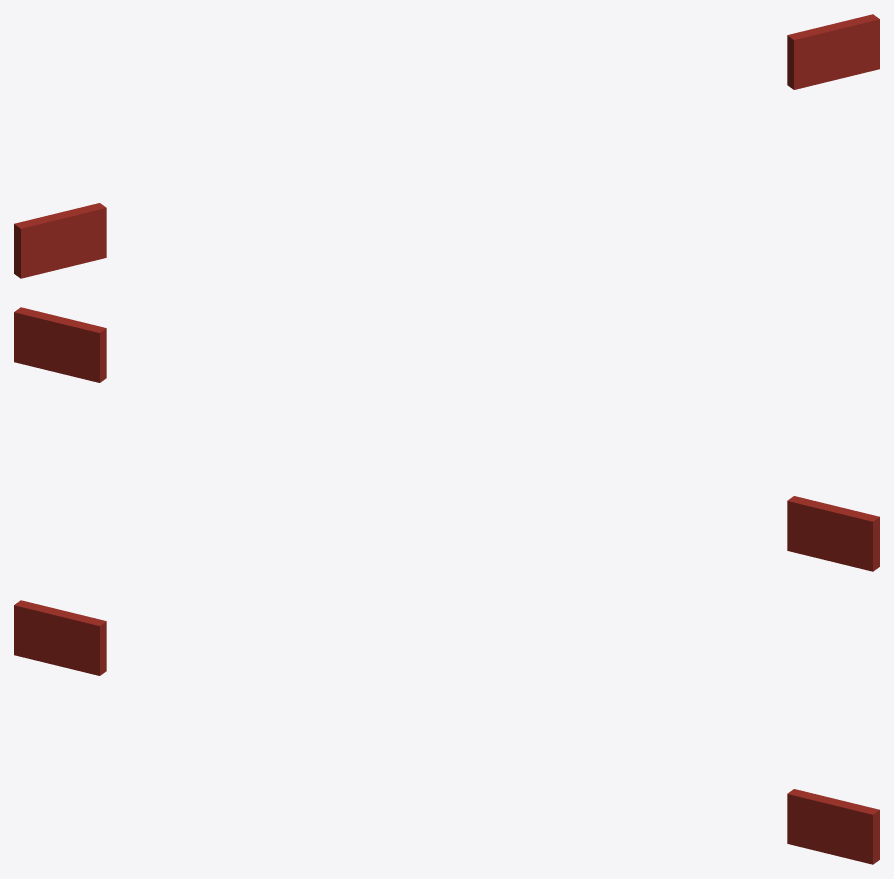
Rendered from vintage-windup-camper--red-lens.glb.
The picture shows the model from 3 angles, top to bottom: view 1: azimuth 30°, elevation 25°; view 2: azimuth 150°, elevation 25°; view 3: azimuth 330°, elevation 25°; orthographic projection.
Parts seen in each view (by area): view 1: vintage-windup-camper; view 2: vintage-windup-camper; view 3: vintage-windup-camper.
Boxes of the visible parts, bbox=[...] form: vintage-windup-camper: bbox=[14, 14, 879, 278]; vintage-windup-camper: bbox=[14, 307, 879, 571]; vintage-windup-camper: bbox=[14, 600, 879, 864].
Bounding box in the file's own units: 1.8 × 0.1 × 0.025.
